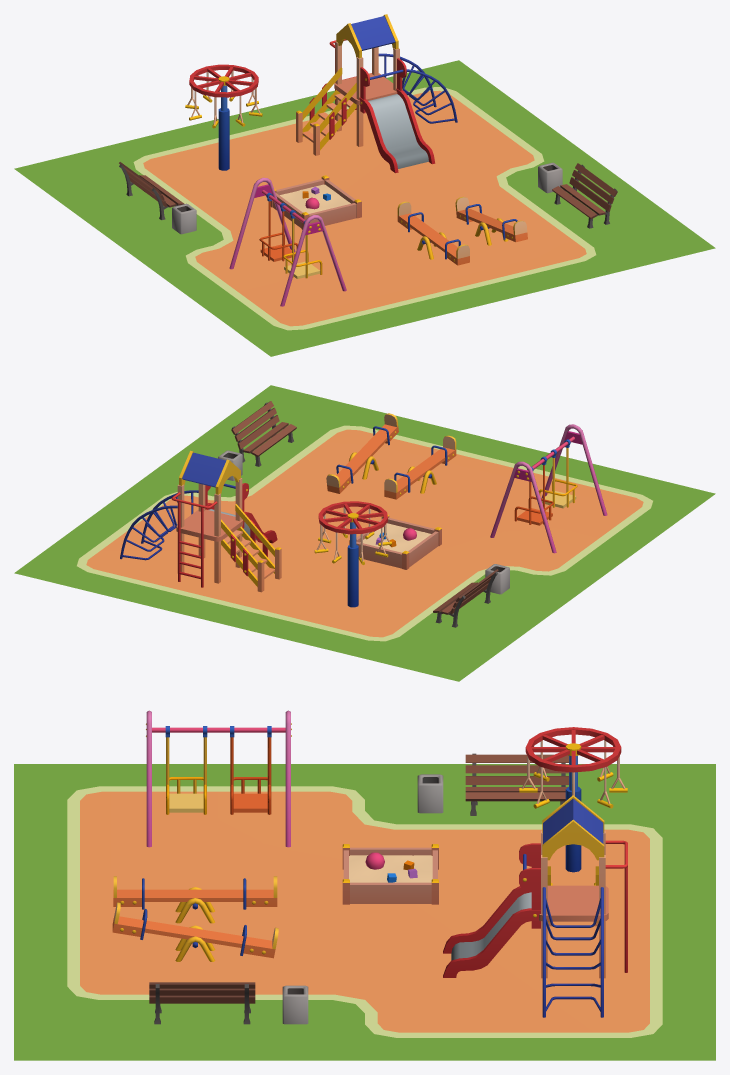
The model's file is children_playground_001.glb.
3 views of the same model, one above another, from view 1: azimuth 30°, elevation 25°; view 2: azimuth 150°, elevation 25°; view 3: azimuth 270°, elevation 25° (orthographic). The views are drawn at different scales.
Parts seen in each view (by area): view 1: children_playground_001; view 2: children_playground_001; view 3: children_playground_001.
Boxes of the visible parts, <box> form: children_playground_001: <box>14,14,715,356</box>; children_playground_001: <box>14,385,715,681</box>; children_playground_001: <box>14,710,715,1060</box>.
Size of the model in its own units: 15 by 3.71 by 15.
1 material, 1 textured.
